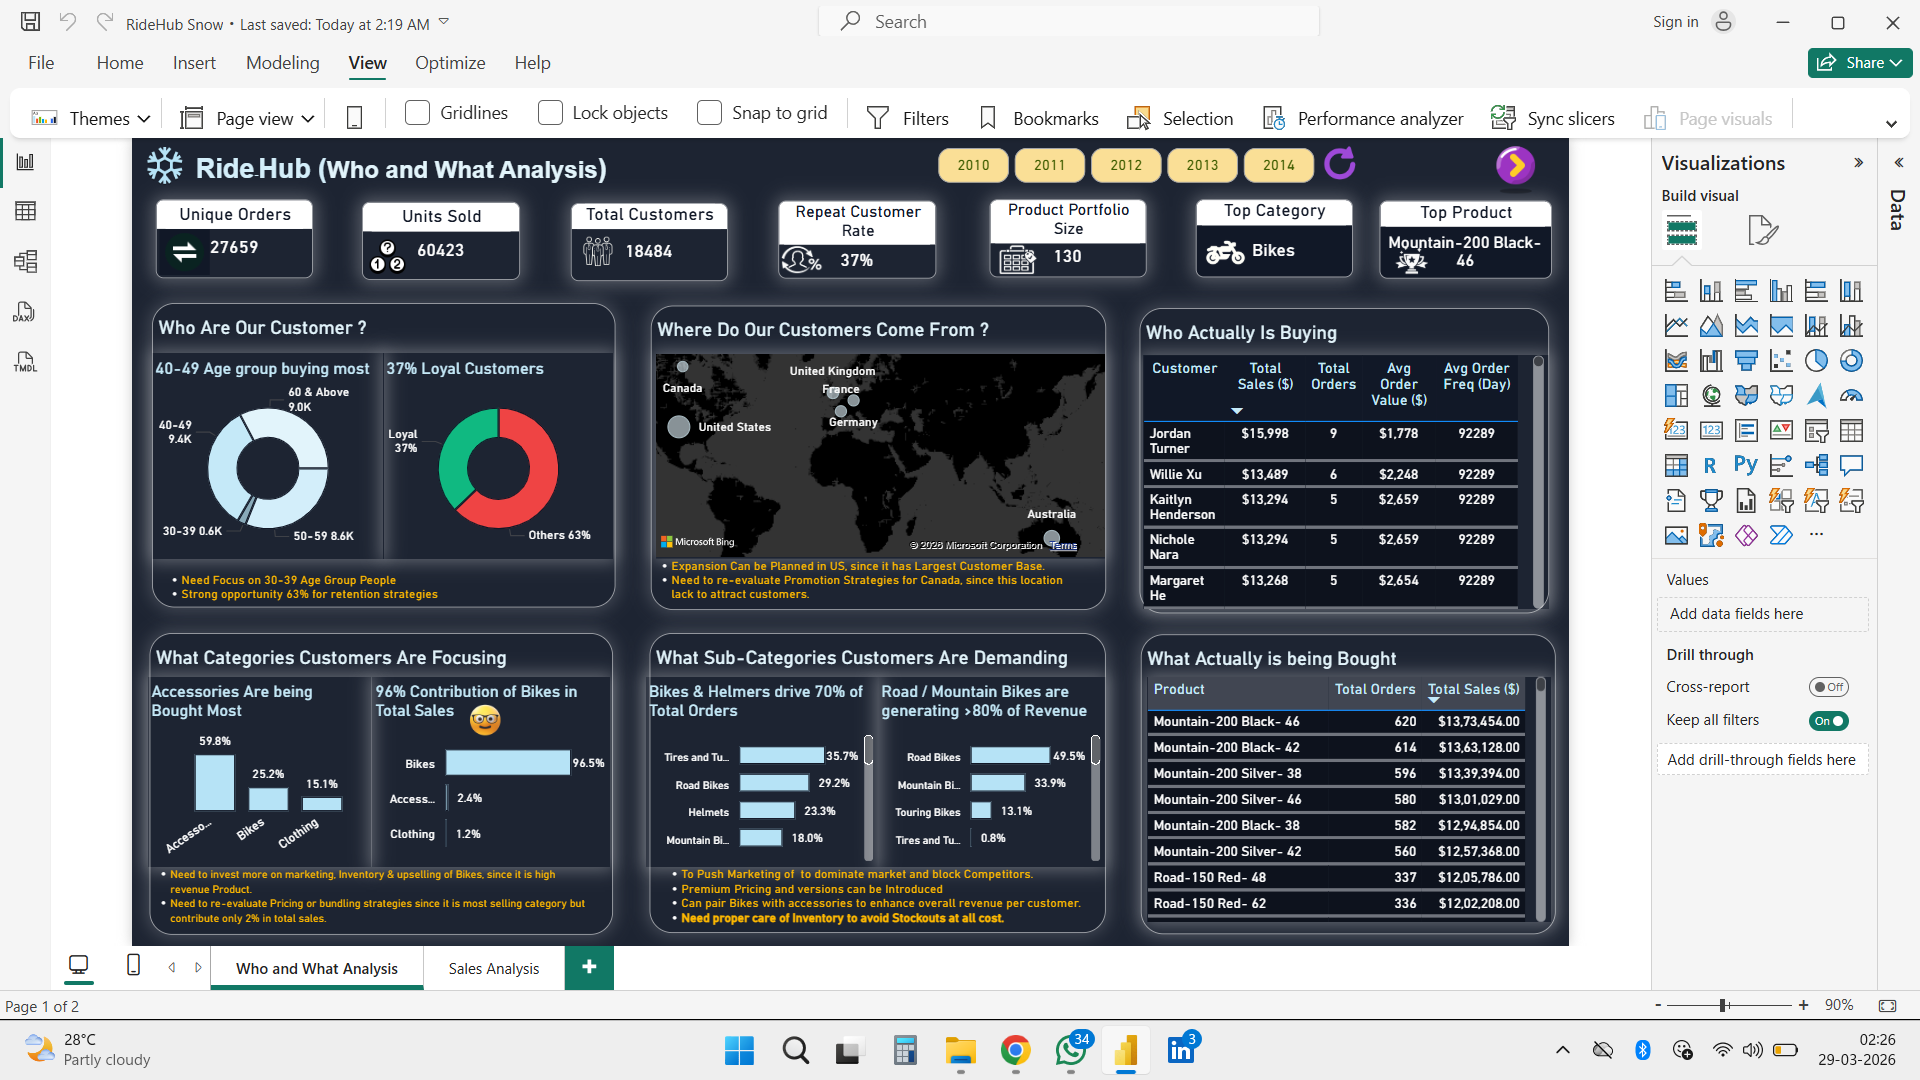

The dashboard page shown, as its layout file describes it:
{"tool":"powerbi","page":{"name":"Who and What Analysis","canvas":[1280,720],"ordinal":0},"visuals":[{"type":"textbox","box":[49.1,8.6,381.6,44.2],"z":0},{"type":"image","box":[10,0,38.8,48.8],"z":1000},{"type":"image","box":[1051.2,2.5,50,41.2],"z":2000},{"type":"textbox","box":[18.1,146.9,412.8,270.9],"z":3000},{"type":"donutChart","title":"40-49 Age group buying most","fields":{"Category":["g_dim_customers.age_group"],"Y":["fact_sales.Total Orders"]},"box":[17.9,191.4,206.1,182.8],"z":4000},{"type":"group","id":"g1","title":"Group 1","box":[21.2,54.9,140.4,70],"z":5000},{"type":"group","id":"g2","title":"Group 2","box":[204.3,56.4,140.9,69.8],"z":6000},{"type":"card","title":"Top Product","fields":{"Values":["dim_products.Top Product"]},"box":[1110.4,55.2,153.4,69.9],"z":7000},{"type":"card","title":"Top Category","fields":{"Values":["dim_products.Top Category"]},"box":[947.4,54.9,139.6,69.8],"z":8000},{"type":"card","title":"Unique Orders","fields":{"Values":["fact_sales.Total Orders"]},"box":[21.2,54.9,140.4,70],"z":9000,"group":"g1"},{"type":"card","title":"Repeat Customer Rate","fields":{"Values":["Customer_report.Repeate Customer %"]},"box":[575.9,56.1,140.9,69.8],"z":9000},{"type":"card","title":"Units Sold","fields":{"Values":["fact_sales.Total Quantity"]},"box":[204.3,56.4,140.9,69.8],"z":10000,"group":"g2"},{"type":"donutChart","title":"37% Loyal Customers","fields":{"Category":["Customer_report.Loyality"],"Y":["Customer_report.Total Customers"]},"box":[224.1,191.4,204.9,182.8],"z":10000},{"type":"card","title":"Total Customers","fields":{"Values":["Customer_report.Total Customers"]},"box":[390.2,57.3,139.6,69.8],"z":11000},{"type":"textbox","box":[20.9,381.6,402.5,38],"z":12000},{"type":"image","box":[24.7,81.3,44.9,41.1],"z":12002,"group":"g1"},{"type":"image","box":[205.5,88.3,42.9,31.9],"z":12003,"group":"g2"},{"type":"textbox","box":[461.6,148.8,405.8,270.9],"z":13000},{"type":"map","fields":{"Category":["g_dim_customers.country"],"Size":["g_dim_customers.Total Customer"]},"box":[466.2,192.5,400,181.2],"z":14000},{"type":"image","box":[391.4,84.7,46.6,33.1],"z":15000},{"type":"image","box":[575.9,92.2,41.1,29.9],"z":16000},{"type":"textbox","box":[897.7,151.2,365.1,272.1],"z":17000},{"type":"tableEx","fields":{"Values":["g_dim_customers.name","fact_sales.Total Sales","fact_sales.Total Orders","fact_sales.Avg Order Value","Sum(Customer_report.time_spam)"]},"box":[900,193.2,361.5,225.6],"z":18000},{"type":"textbox","box":[15.1,440.7,412.8,268.6],"z":19000},{"type":"textbox","box":[461.4,440.5,406.1,267.5],"z":20000},{"type":"clusteredColumnChart","title":"Accessories Are being Bought Most","fields":{"Category":["dim_products.category"],"Y":["fact_sales.Total Quantity"]},"box":[14.7,479.8,198.8,169.3],"z":21000},{"type":"clusteredBarChart","title":"96% Contribution of Bikes in Total Sales","fields":{"Category":["dim_products.category"],"Y":["Divide(fact_sales.Total Sales, ScopedEval(fact_sales.Total Sales, []))"]},"box":[213.5,479.8,212.3,169.3],"z":22000},{"type":"clusteredBarChart","title":"Bikes & Helmers drive 70% of Total Orders","fields":{"Category":["dim_products.sub_category"],"Y":["fact_sales.Total Orders"]},"box":[457.7,479.8,207.4,169.3],"z":23000},{"type":"image","box":[295.3,502.3,39.5,32.6],"z":24000},{"type":"textbox","box":[457.5,374,392.7,49.9],"z":25000},{"type":"textbox","box":[11,649.1,406.1,60.1],"z":26000},{"type":"clusteredBarChart","title":"Road / Mountain Bikes are generating >80% of Revenue","fields":{"Category":["dim_products.sub_category"],"Y":["fact_sales.Total Sales"]},"box":[665,479.8,202.5,169.3],"z":27000},{"type":"textbox","box":[466.3,649.1,400,60.1],"z":28000},{"type":"textbox","box":[898.2,441.7,369.3,267.5],"z":29000},{"type":"tableEx","fields":{"Values":["Product_report.product_name","fact_sales.Total Orders","fact_sales.Total Sales"]},"box":[903.8,480,360,218.8],"z":30000},{"type":"card","title":"Product Portfolio Size","fields":{"Values":["dim_products.Unique Product"]},"box":[764.2,54.9,139.6,69.8],"z":31000},{"type":"image","box":[956.1,84.8,34.9,37.4],"z":32000},{"type":"image","box":[770.4,93.5,36.2,28.7],"z":33000},{"type":"image","box":[1119.4,94.7,39.9,27.4],"z":34000},{"type":"advancedSlicerVisual","fields":{"Values":["Calendar.year"]},"box":[717.5,8.8,335,31.2],"z":35000},{"type":"image","box":[1201.2,2.5,62.5,47.5],"z":36000}]}

Visuals, with their boxes on the page's 1280x720 design canvas (x1, y1, x2, y2). These are canvas units, not pixel positions in the 1920x1080 screenshot, which may show the page scaled, cropped or inside an application window:
textbox: (49, 9, 431, 53)
image: (10, 0, 49, 49)
image: (1051, 2, 1101, 44)
textbox: (18, 147, 431, 418)
"40-49 Age group buying most" donutChart: (18, 191, 224, 374)
"Group 1" group: (21, 55, 162, 125)
"Group 2" group: (204, 56, 345, 126)
"Top Product" card: (1110, 55, 1264, 125)
"Top Category" card: (947, 55, 1087, 125)
"Unique Orders" card: (21, 55, 162, 125)
"Repeat Customer Rate" card: (576, 56, 717, 126)
"Units Sold" card: (204, 56, 345, 126)
"37% Loyal Customers" donutChart: (224, 191, 429, 374)
"Total Customers" card: (390, 57, 530, 127)
textbox: (21, 382, 423, 420)
image: (25, 81, 70, 122)
image: (206, 88, 248, 120)
textbox: (462, 149, 867, 420)
map - g_dim_customers.country x g_dim_customers.Total Customer: (466, 192, 866, 374)
image: (391, 85, 438, 118)
image: (576, 92, 617, 122)
textbox: (898, 151, 1263, 423)
tableEx - g_dim_customers.name x fact_sales.Total Sales: (900, 193, 1262, 419)
textbox: (15, 441, 428, 709)
textbox: (461, 440, 868, 708)
"Accessories Are being Bought Most" clusteredColumnChart: (15, 480, 214, 649)
"96% Contribution of Bikes in Total Sales" clusteredBarChart: (214, 480, 426, 649)
"Bikes & Helmers drive 70% of Total Orders" clusteredBarChart: (458, 480, 665, 649)
image: (295, 502, 335, 535)
textbox: (458, 374, 850, 424)
textbox: (11, 649, 417, 709)
"Road / Mountain Bikes are generating >80% of Revenue" clusteredBarChart: (665, 480, 868, 649)
textbox: (466, 649, 866, 709)
textbox: (898, 442, 1268, 709)
tableEx - Product_report.product_name x fact_sales.Total Orders: (904, 480, 1264, 699)
"Product Portfolio Size" card: (764, 55, 904, 125)
image: (956, 85, 991, 122)
image: (770, 94, 807, 122)
image: (1119, 95, 1159, 122)
advancedSlicerVisual - Calendar.year: (718, 9, 1052, 40)
image: (1201, 2, 1264, 50)
